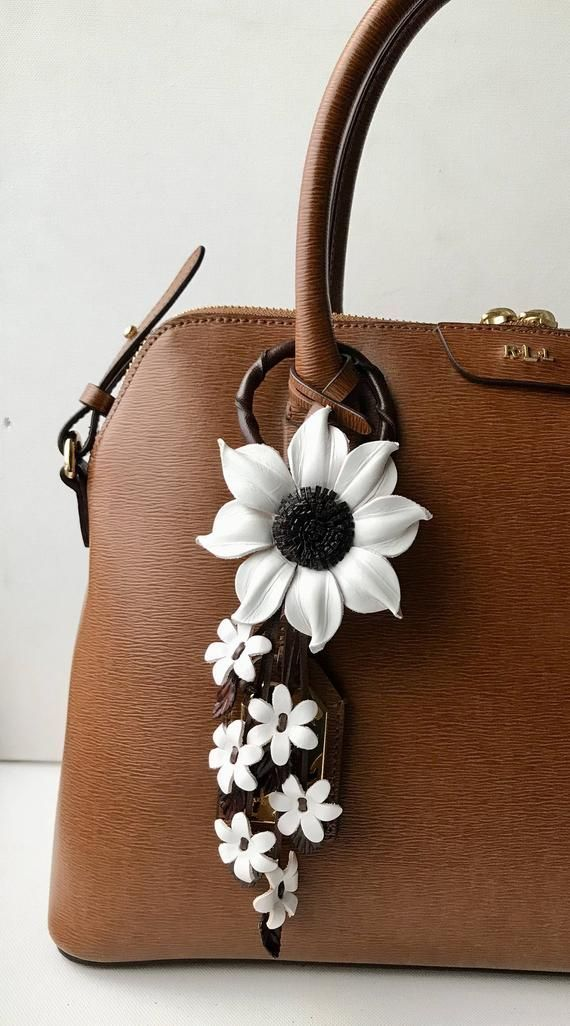cuero: (49, 6, 570, 977)
